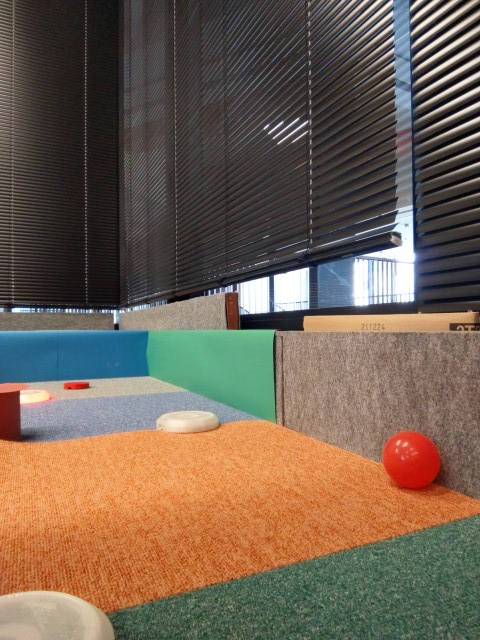o: (1, 582, 120, 640), (151, 406, 220, 436)
r: (13, 385, 55, 404)
